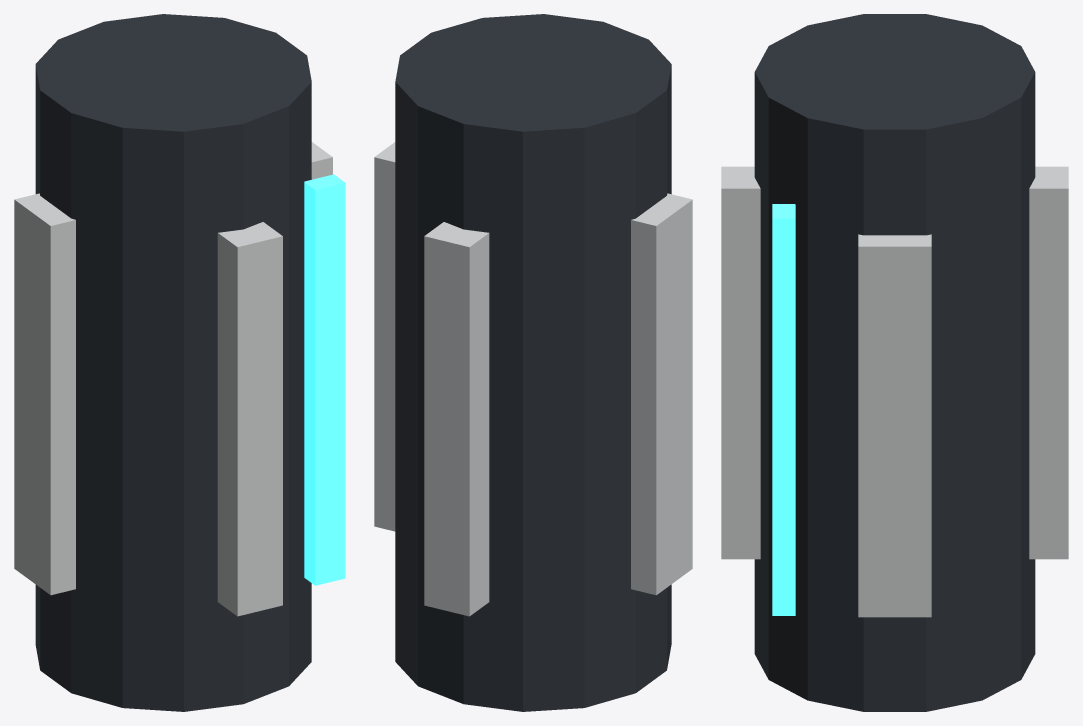
Rendered from cyber_forearm.glb.
The picture shows the model from 3 angles, left to right: view 1: azimuth 30°, elevation 25°; view 2: azimuth 150°, elevation 25°; view 3: azimuth 270°, elevation 25°; orthographic projection.
Visible parts, largest first — view 1: part_000, part_003, part_004, part_006, part_002; view 2: part_000, part_005, part_004, part_002; view 3: part_000, part_002, part_003, part_005, part_006.
Part boxes in pixels (x1,y1,x2,y2): part_000: [35, 14, 311, 711]; part_003: [217, 222, 282, 616]; part_004: [14, 193, 75, 595]; part_006: [304, 174, 345, 585]; part_002: [311, 142, 332, 179]; part_000: [395, 14, 671, 711]; part_005: [424, 222, 489, 616]; part_004: [631, 193, 692, 595]; part_002: [374, 142, 395, 531]; part_000: [754, 14, 1035, 711]; part_002: [858, 234, 931, 617]; part_003: [721, 166, 760, 559]; part_005: [1029, 166, 1068, 559]; part_006: [772, 204, 795, 615].
Bounding box in the file's own units: 0.112 × 0.22 × 0.119.
